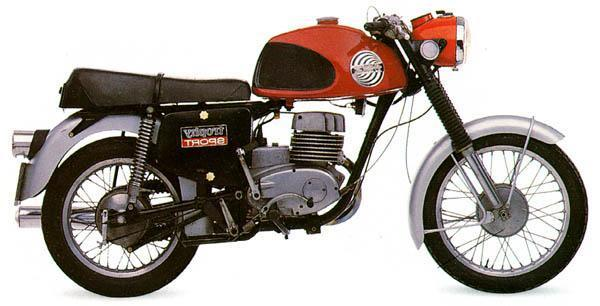motorcycle: (12, 1, 595, 301)
